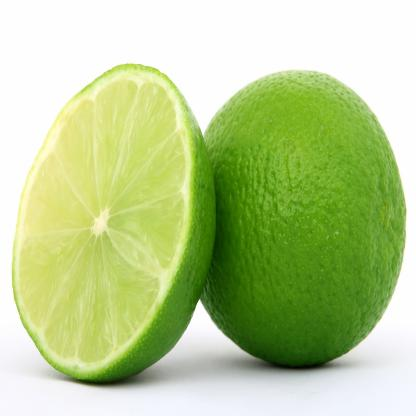lemon: (12, 53, 216, 386), (191, 71, 408, 376)
